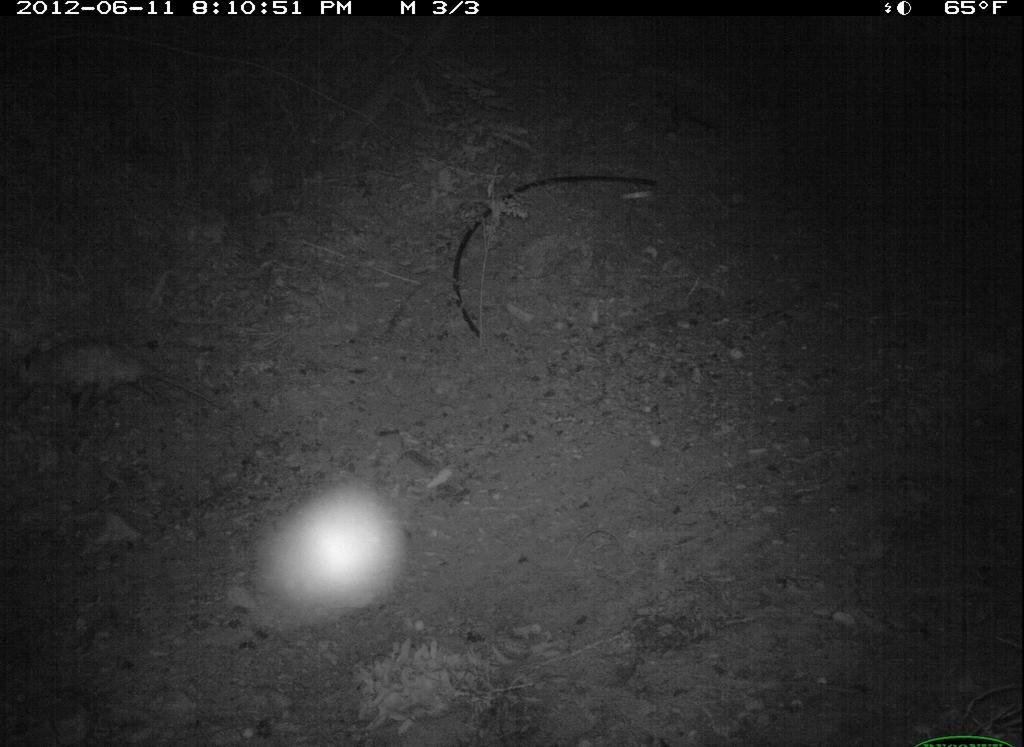opossum: (3, 329, 240, 441)
